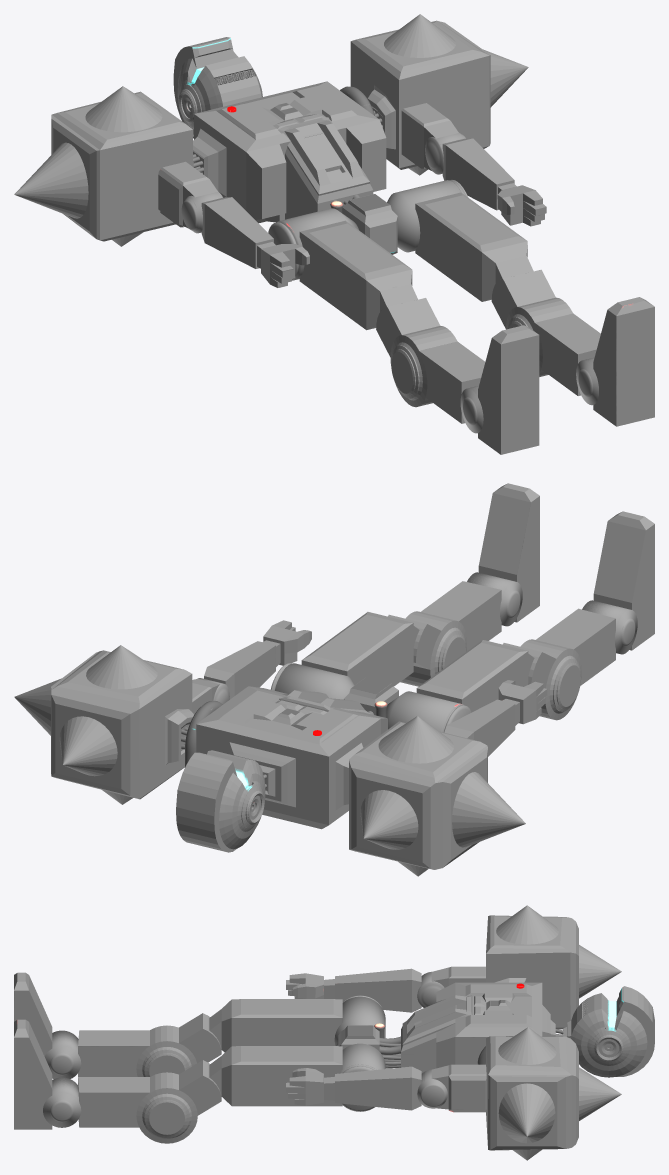
Rendered from Meca Gatling Unit.fbx.
3 renders of one model, top to bottom at view 1: azimuth 30°, elevation 25°; view 2: azimuth 150°, elevation 25°; view 3: azimuth 270°, elevation 25°, orthographic. The views are drawn at different scales.
Parts seen in each view (by area): view 1: Mechanical Infantryman ECS; view 2: Mechanical Infantryman ECS; view 3: Mechanical Infantryman ECS.
Boxes of the visible parts, x1=… form: Mechanical Infantryman ECS: x1=14, y1=14, x2=654, y2=454; Mechanical Infantryman ECS: x1=14, y1=483, x2=654, y2=876; Mechanical Infantryman ECS: x1=14, y1=905, x2=654, y2=1160.
Bounding box in the file's own units: 16114 × 5301 × 20871.
